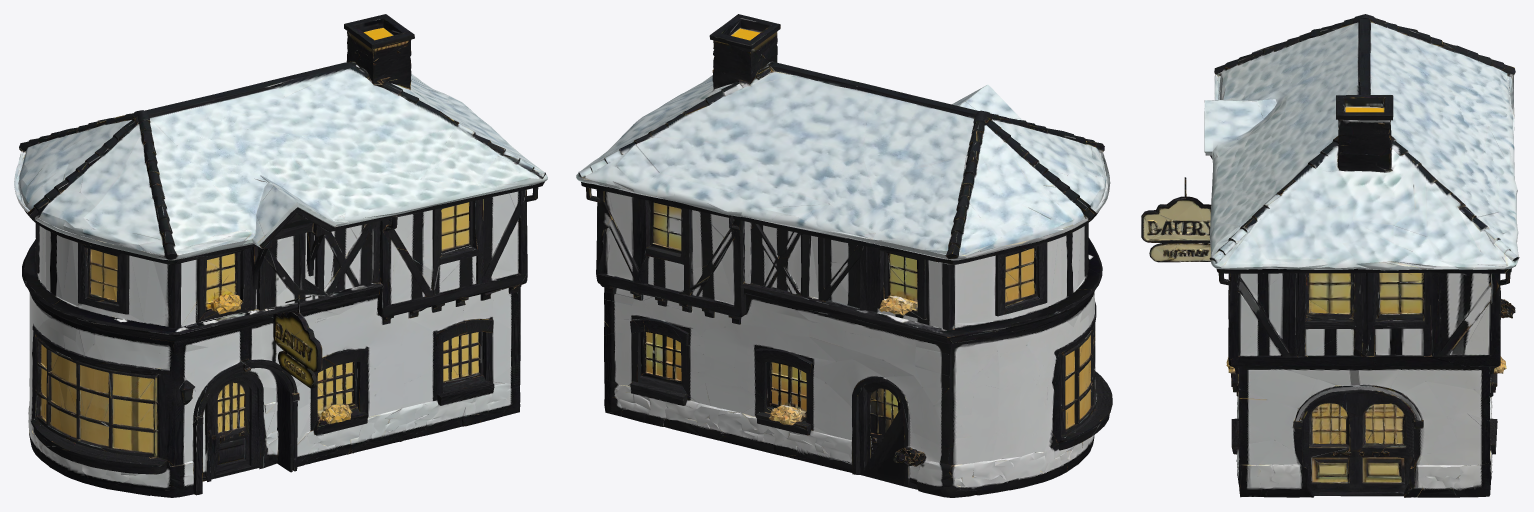
The model's file is bakery.glb.
3 renders of one model, left to right at view 1: azimuth 30°, elevation 25°; view 2: azimuth 150°, elevation 25°; view 3: azimuth 270°, elevation 25°, orthographic.
Bounding box in the file's own units: 1.9 × 1.43 × 1.39.
1 material, 1 textured.
